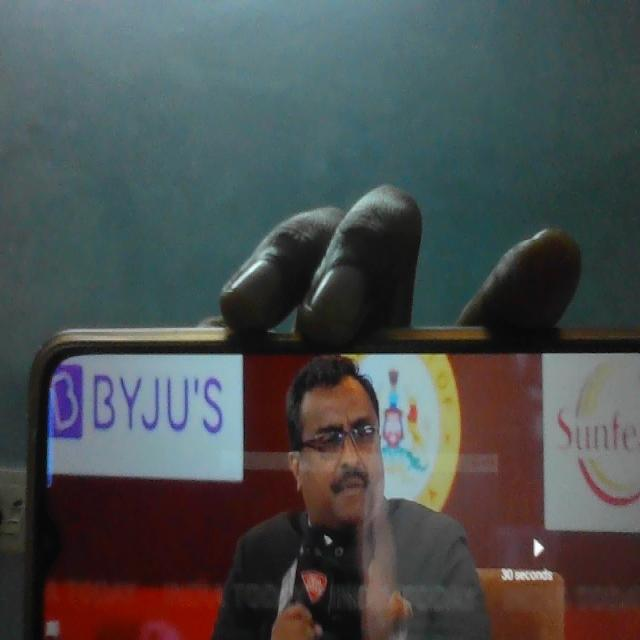fake: (285, 332, 400, 549)
